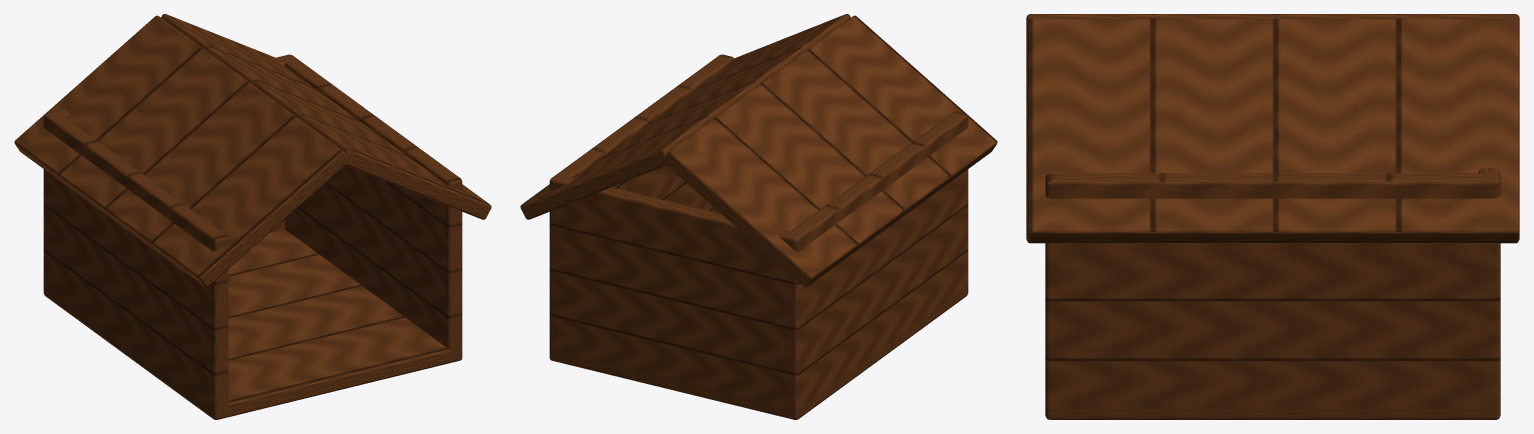
Rendered from undercity-sewers-and-thieves-den-dog-kennel-53dbd12c__27256.glb.
The picture shows the model from 3 angles, left to right: view 1: azimuth 30°, elevation 25°; view 2: azimuth 150°, elevation 25°; view 3: azimuth 270°, elevation 25°; orthographic projection. The views are drawn at different scales.
Parts seen in each view (by area): view 1: dog-kennel; view 2: dog-kennel; view 3: dog-kennel.
Part boxes in pixels (box(x1,y1,x2,y2)): dog-kennel: box(14, 14, 491, 419); dog-kennel: box(520, 14, 997, 419); dog-kennel: box(1026, 14, 1519, 419).
Bounding box in the file's own units: 1.17 × 0.9448 × 1.3.
1 material, 1 textured.
